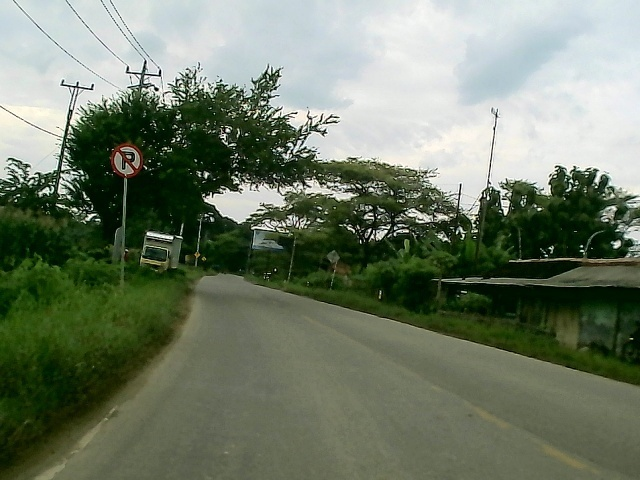Dilarang parkir: (110, 143, 146, 179)
